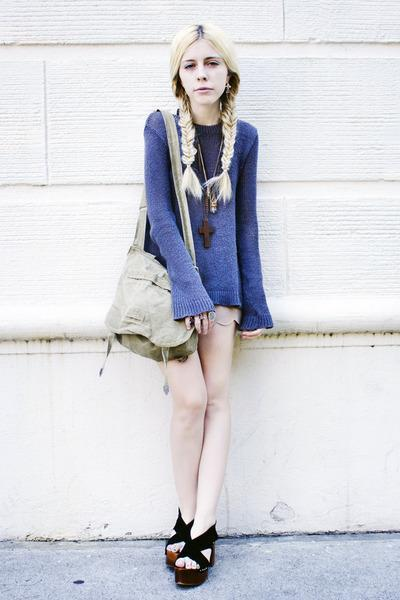bag: (100, 180, 203, 371)
jacket: (140, 110, 273, 332)
shoe: (133, 509, 223, 589)
shorts: (214, 307, 238, 334)
